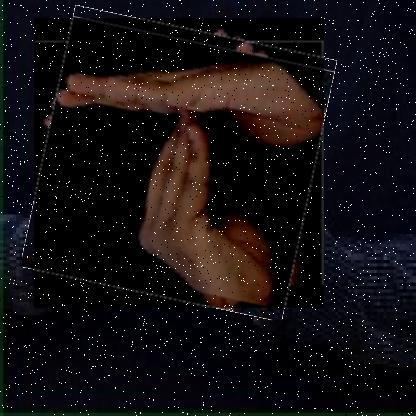Z: (33, 18, 324, 309)
